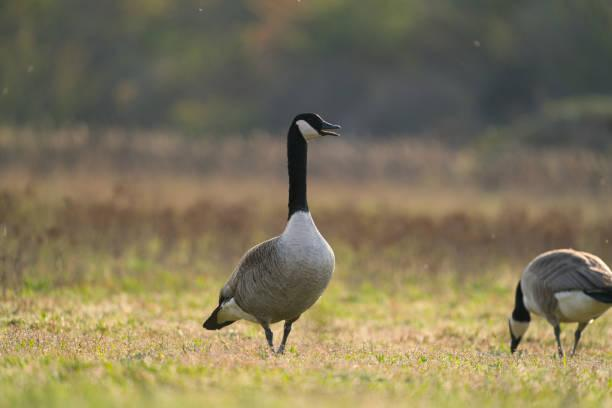Canadian-Goose: (202, 111, 343, 356), (510, 246, 612, 362)
